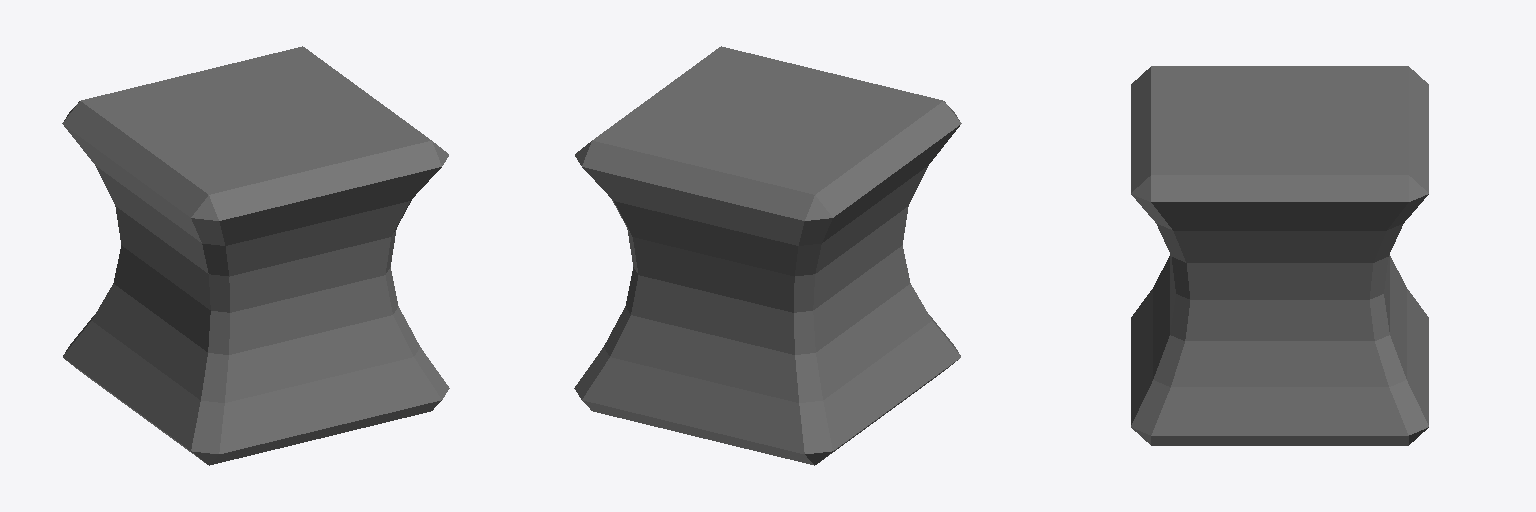
File: player02.obj
3 renders of one model, left to right at view 1: azimuth 30°, elevation 25°; view 2: azimuth 150°, elevation 25°; view 3: azimuth 270°, elevation 25°, orthographic.
Parts seen in each view (by area): view 1: Player; view 2: Player; view 3: Player.
Boxes of the visible parts, <box> form: Player: <box>62,46,449,465</box>; Player: <box>574,46,961,465</box>; Player: <box>1131,66,1428,445</box>.
Bounding box in the file's own units: 1.04 × 1.04 × 1.04.